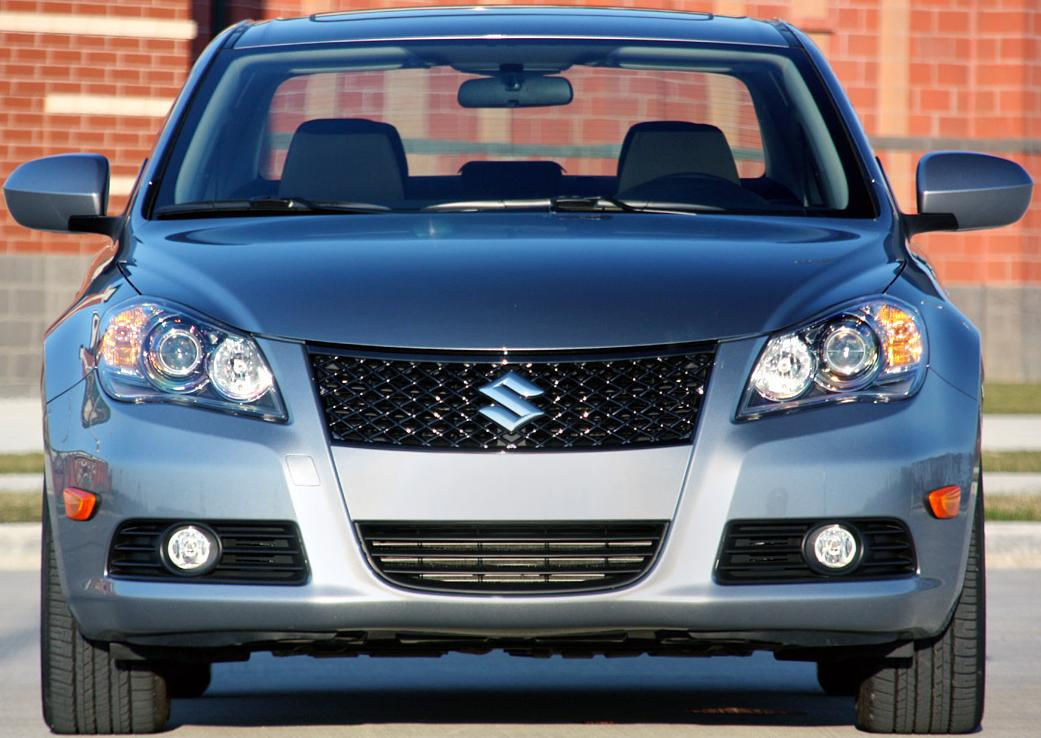front_view: (47, 233, 966, 624)
headlight: (734, 288, 930, 447)
